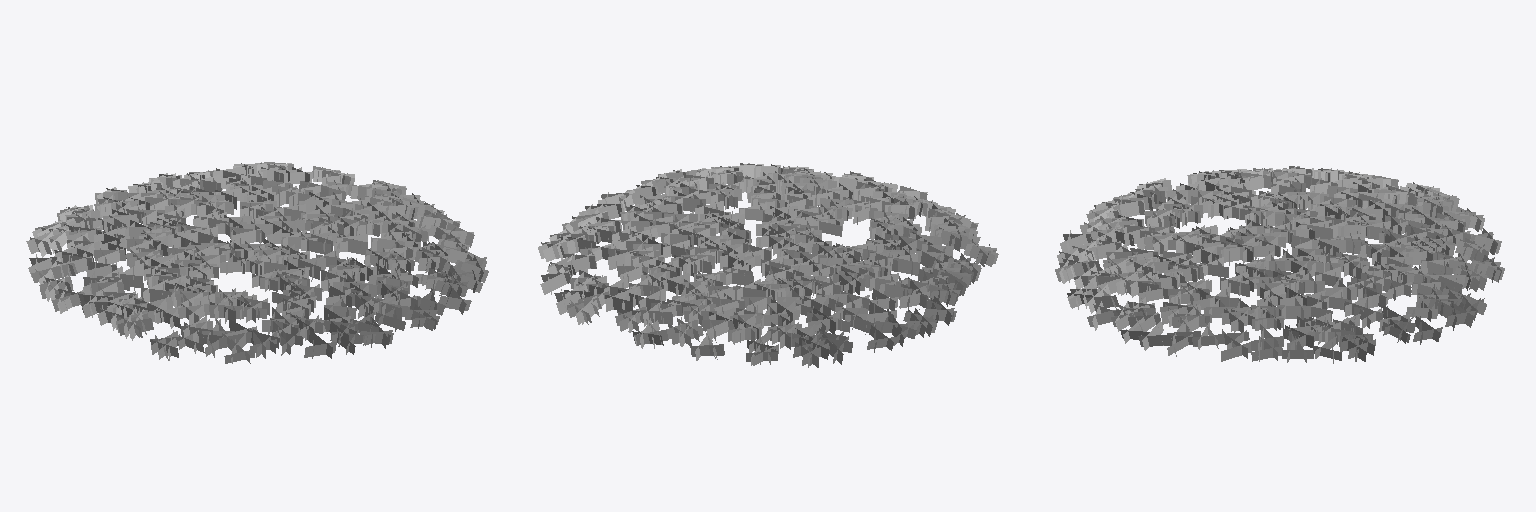
Rendered from sm_grass_terrace1x.OBJ.
The picture shows the model from 3 angles: view 1: azimuth 30°, elevation 25°; view 2: azimuth 150°, elevation 25°; view 3: azimuth 270°, elevation 25°; orthographic projection.
Visible parts, largest first — view 1: ZBrushPolyMesh3D; view 2: ZBrushPolyMesh3D; view 3: ZBrushPolyMesh3D.
Part boxes in pixels (bbox=[...]): ZBrushPolyMesh3D: bbox=[26, 162, 488, 363]; ZBrushPolyMesh3D: bbox=[538, 163, 998, 367]; ZBrushPolyMesh3D: bbox=[1055, 166, 1504, 363].
Size of the model in its own units: 5.94 by 0.5063 by 5.97.